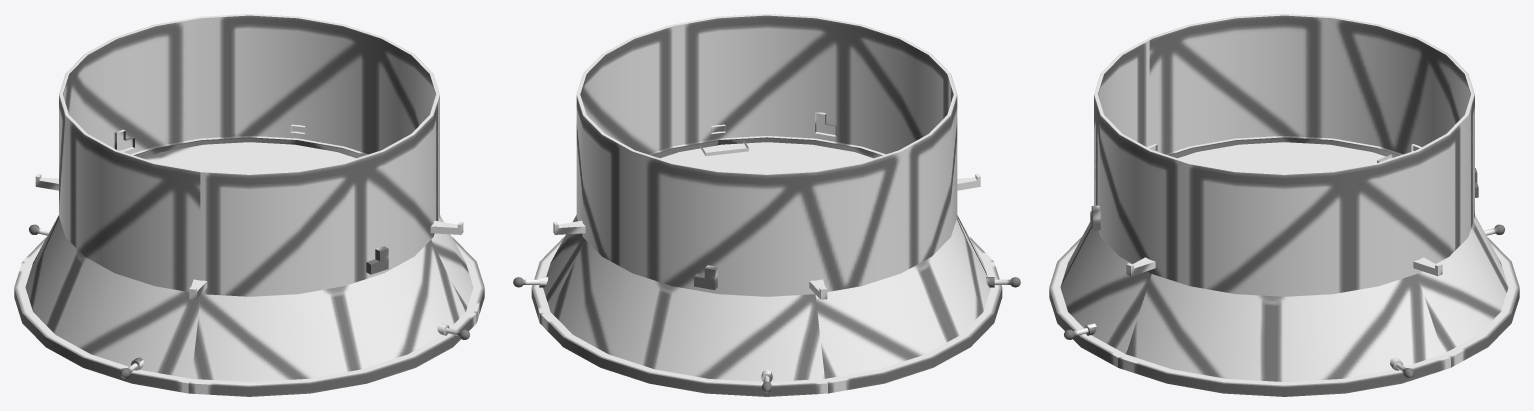
File: basic_service_module.fbx
The picture shows the model from 3 angles, left to right: view 1: azimuth 30°, elevation 25°; view 2: azimuth 150°, elevation 25°; view 3: azimuth 270°, elevation 25°; orthographic projection.
Parts seen in each view (by area): view 1: mesh; view 2: mesh; view 3: mesh.
Part boxes in pixels (x1,y1,x2,y2): mesh: [14, 14, 484, 396]; mesh: [513, 14, 1020, 396]; mesh: [1049, 14, 1519, 396].
Size of the model in its own units: 1.58 by 0.75 by 1.58.
